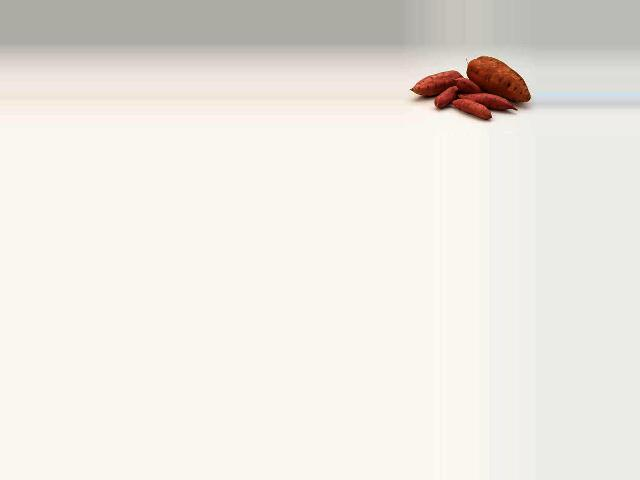sweet_potato: (408, 70, 461, 96)
